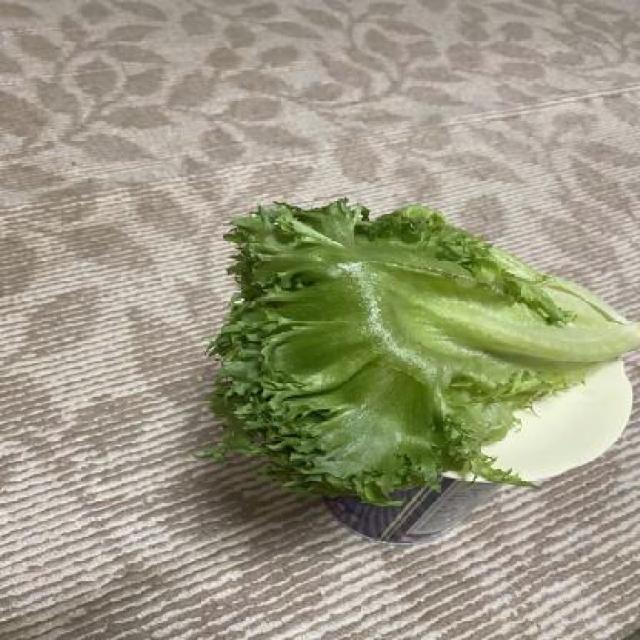Lettuce: (212, 193, 640, 506)
